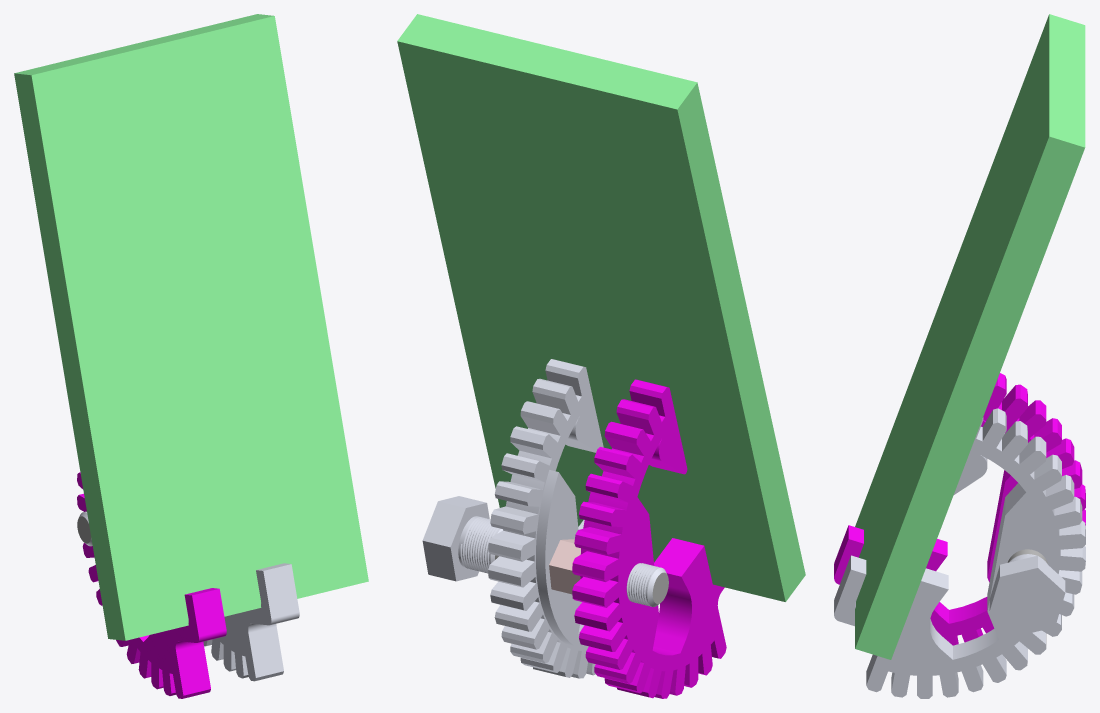
File: PHONE HOLDER ASSMBLY2.gltf
The picture shows the model from 3 angles, left to right: view 1: azimuth 30°, elevation 25°; view 2: azimuth 150°, elevation 25°; view 3: azimuth 270°, elevation 25°; orthographic projection. The views are drawn at different scales.
Parts seen in each view (by area): view 1: PHONE_HOLDER_ASSMBLY; view 2: PHONE_HOLDER_ASSMBLY; view 3: PHONE_HOLDER_ASSMBLY.
Part boxes in pixels (x1,y1,x2,y2): PHONE_HOLDER_ASSMBLY: (14,14,368,698); PHONE_HOLDER_ASSMBLY: (397,14,805,698); PHONE_HOLDER_ASSMBLY: (834,14,1085,698).
Bounding box in the file's own units: 0.08 × 0.1835 × 0.0695.
